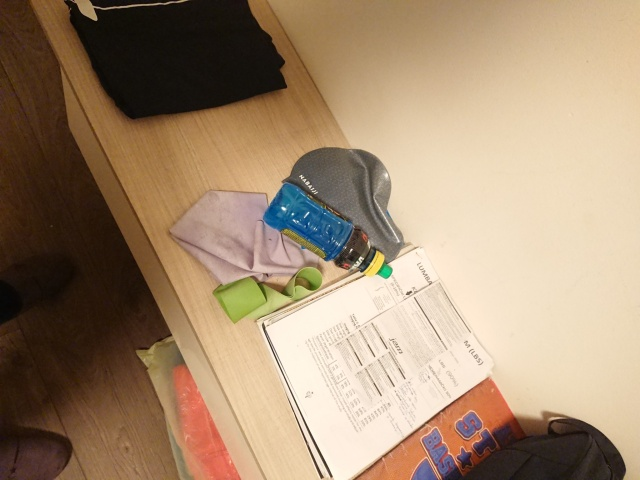Vindi Iso Sport Forest Strawberries 500mL: (261, 180, 394, 280)
